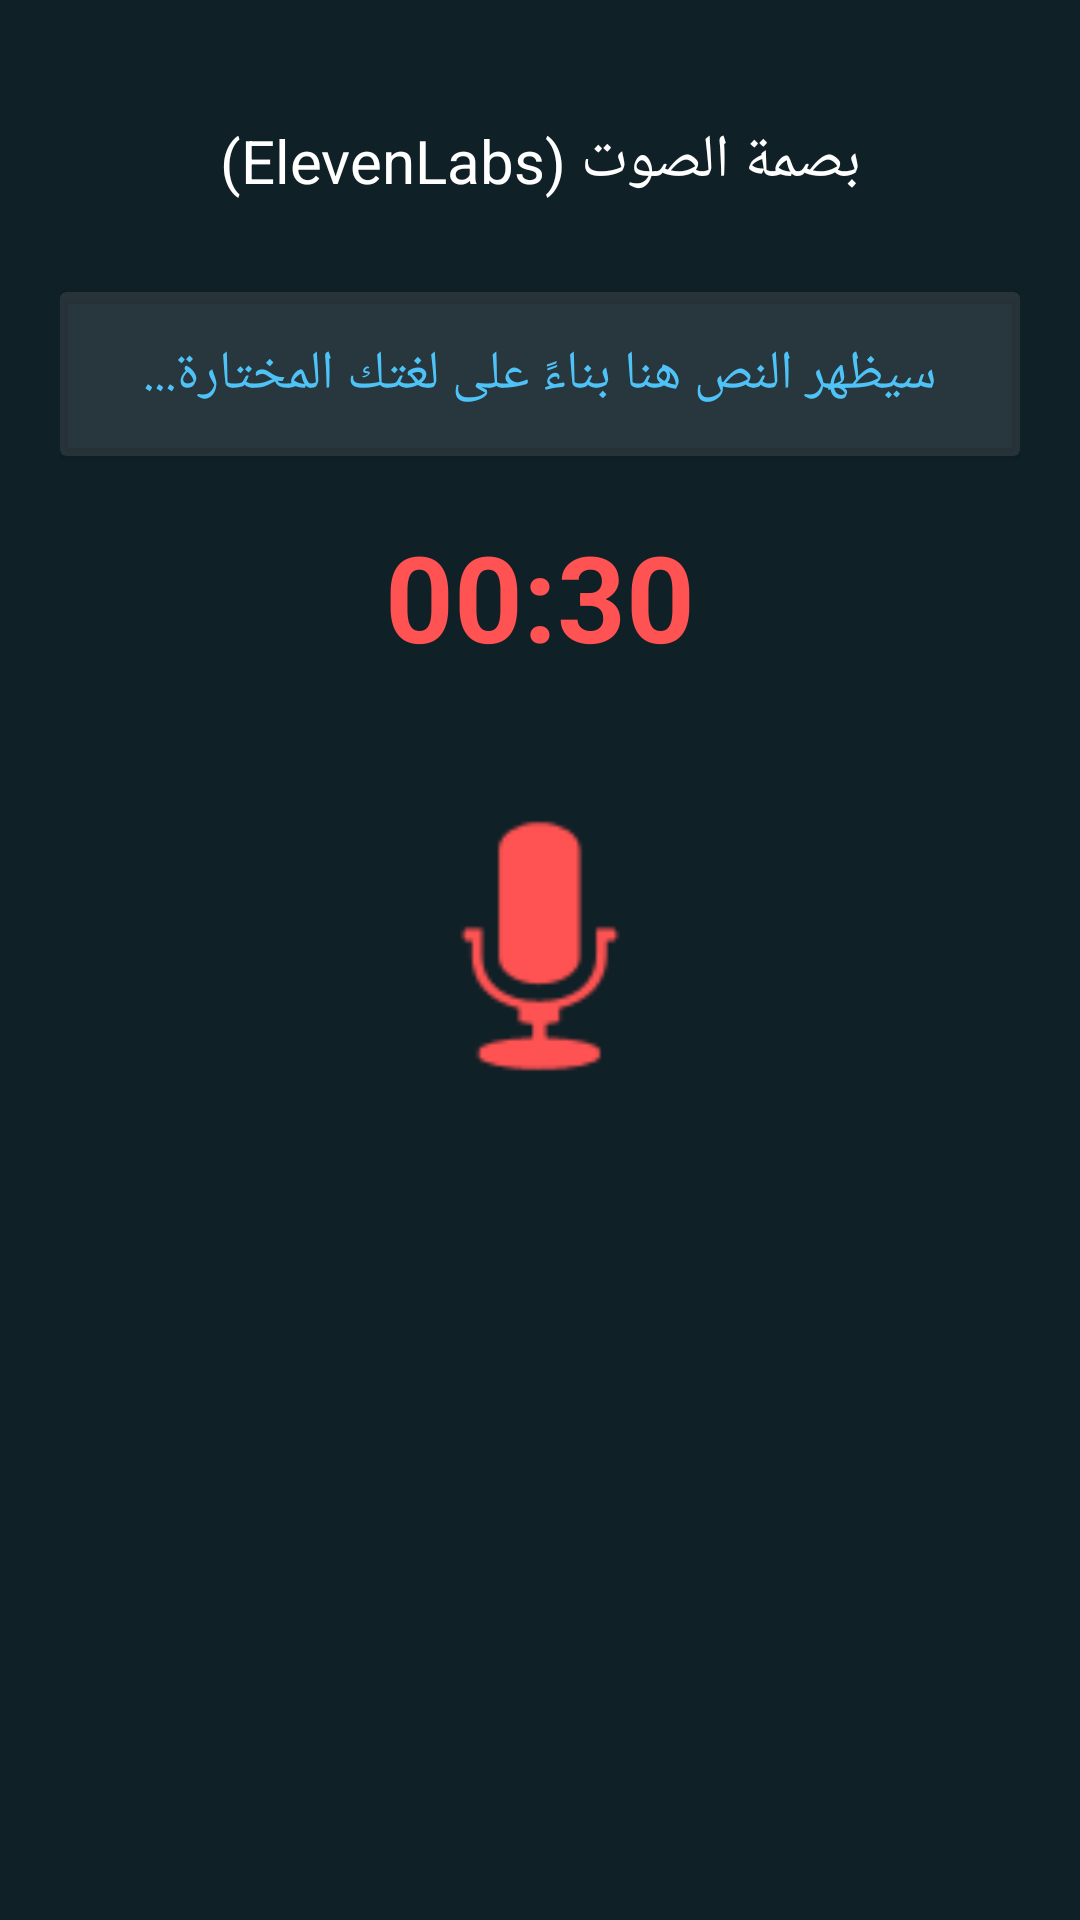

Named icons in this screenshot (1080 × 1920) and their bounding boxes, Rect(x1, y1, x2, y2):
speak now: Rect(460, 821, 619, 1071)
